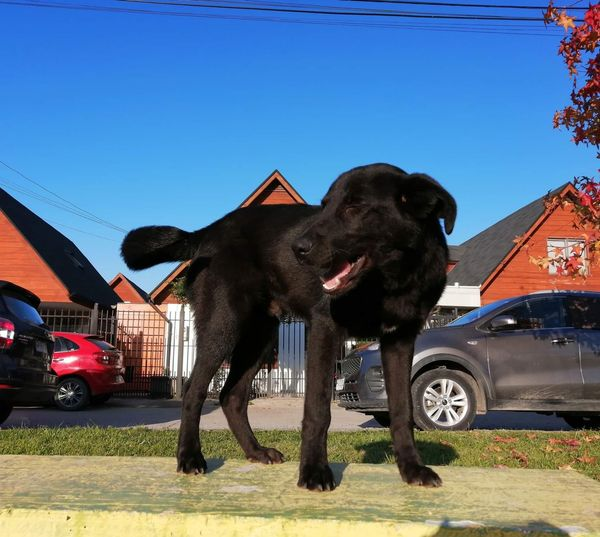dog: (140, 148, 466, 495)
